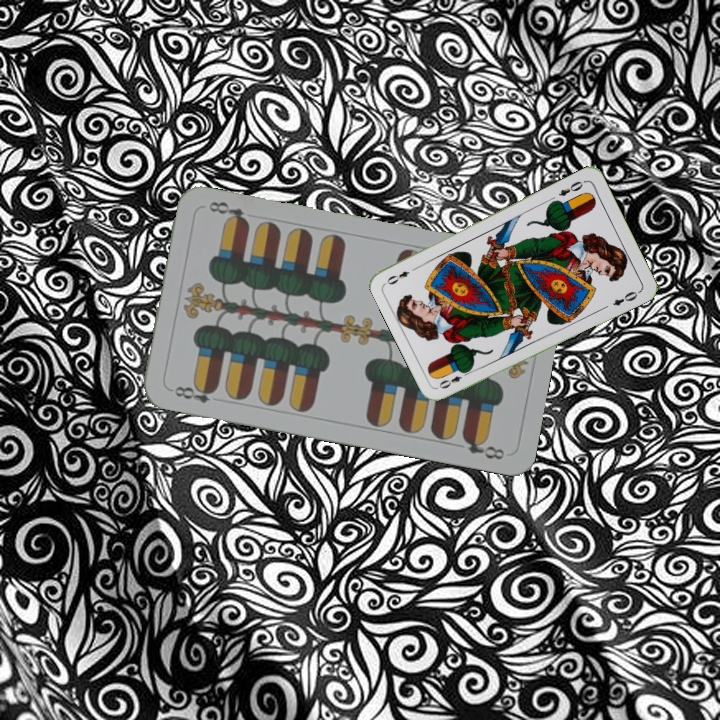E8: (166, 380, 219, 406)
EO: (435, 366, 473, 391), (554, 176, 588, 199)
